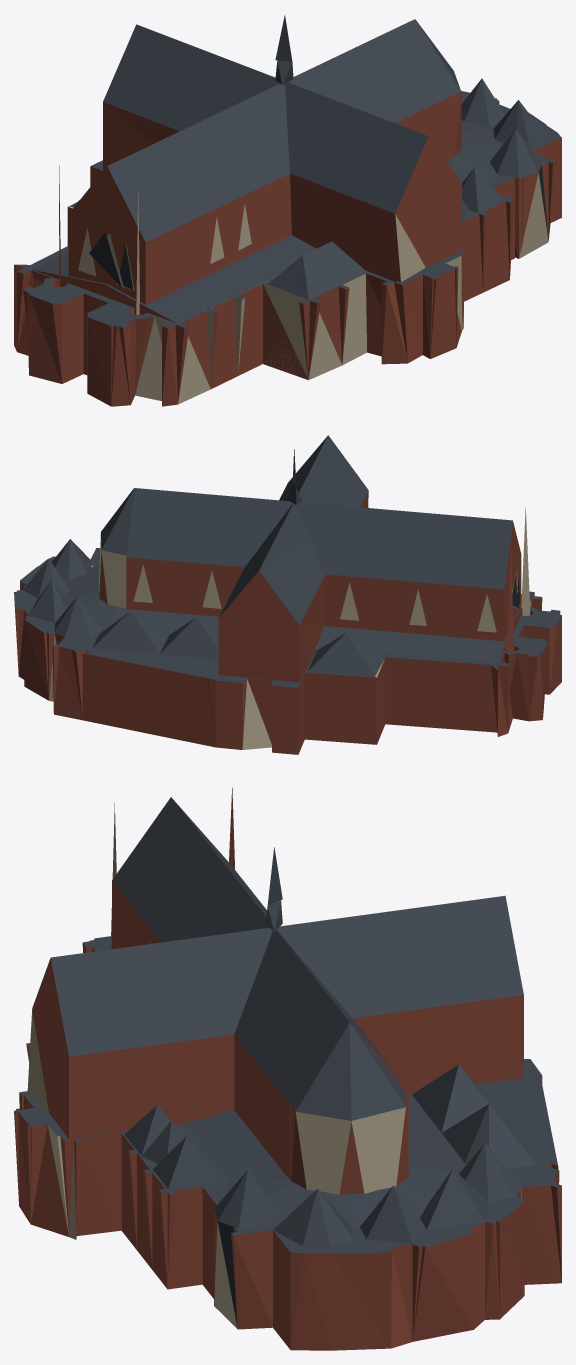
The model's file is nieuwe-kerk.lod2.glb.
3 renders of one model, top to bottom at view 1: azimuth 30°, elevation 25°; view 2: azimuth 150°, elevation 25°; view 3: azimuth 270°, elevation 25°, orthographic. The views are drawn at different scales.
Visible parts, largest first — view 1: lod2; view 2: lod2; view 3: lod2.
Boxes of the visible parts, box(x1,y1,x2,y2) form: lod2: box(14, 15, 561, 406); lod2: box(14, 435, 561, 754); lod2: box(14, 787, 561, 1350).
Size of the model in its own units: 94.96 by 44.8 by 66.12.
